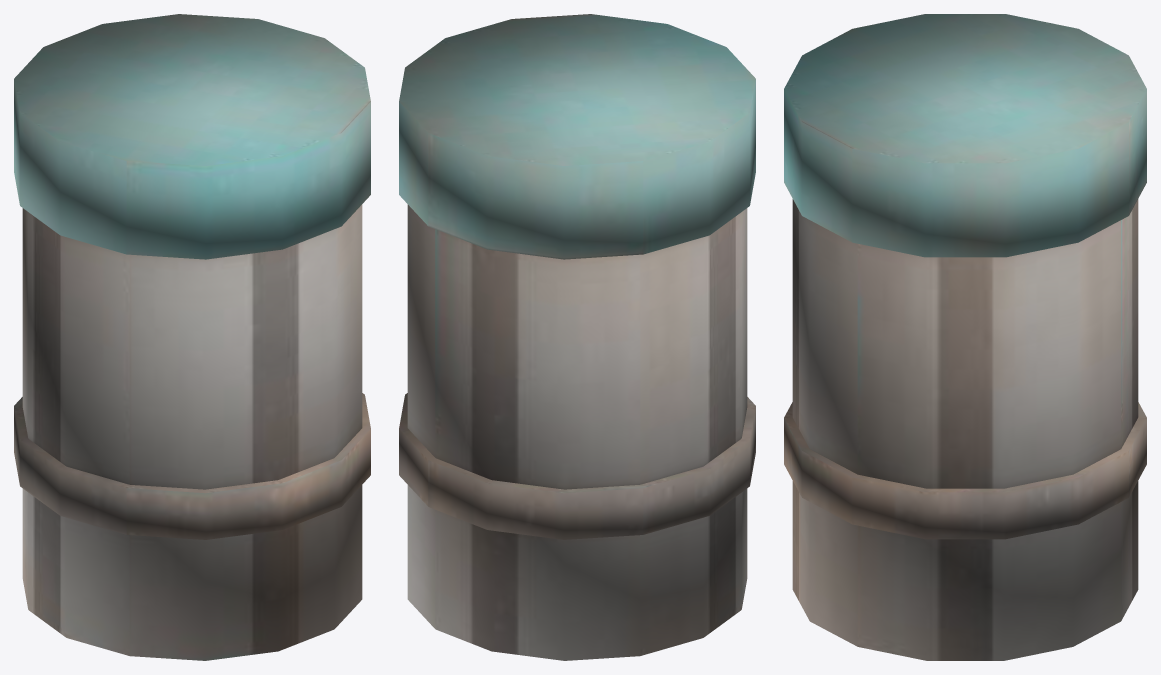
The model's file is bucket.glb.
3 views of the same model, side by side, from view 1: azimuth 30°, elevation 25°; view 2: azimuth 150°, elevation 25°; view 3: azimuth 270°, elevation 25° (orthographic).
Parts seen in each view (by area): view 1: bucket; view 2: bucket; view 3: bucket.
Part boxes in pixels (left/top/right/bottom): bucket: left=14, top=14, right=370, bottom=660; bucket: left=399, top=14, right=755, bottom=660; bucket: left=784, top=14, right=1146, bottom=660.
Bounding box in the file's own units: 0.2047 × 0.32 × 0.21.
Materials: 1 (1 with a texture image).
